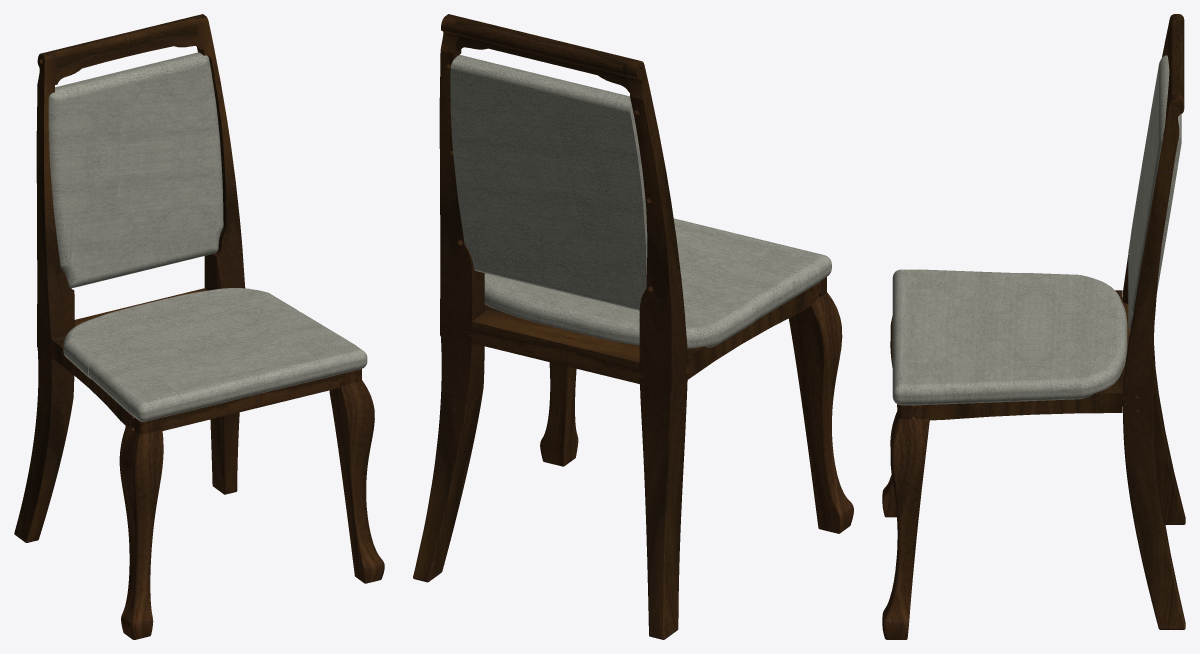
Rendered from windsor-side.glb.
The picture shows the model from 3 angles, left to right: view 1: azimuth 30°, elevation 25°; view 2: azimuth 150°, elevation 25°; view 3: azimuth 270°, elevation 25°; orthographic projection. The views are drawn at different scales.
Parts seen in each view (by area): view 1: Windsor Dining Chair, Windsor Dining Chair.001; view 2: Windsor Dining Chair.001, Windsor Dining Chair; view 3: Windsor Dining Chair, Windsor Dining Chair.001.
Boxes of the visible parts, left/top/right/bottom form: Windsor Dining Chair: left=48, top=52, right=367, bottom=421; Windsor Dining Chair.001: left=14, top=14, right=384, bottom=639; Windsor Dining Chair.001: left=413, top=14, right=853, bottom=639; Windsor Dining Chair: left=450, top=55, right=831, bottom=348; Windsor Dining Chair: left=892, top=55, right=1181, bottom=405; Windsor Dining Chair.001: left=882, top=14, right=1185, bottom=639.
Size of the model in its own units: 0.5372 by 0.9679 by 0.5132.
2 materials, 2 textured.
